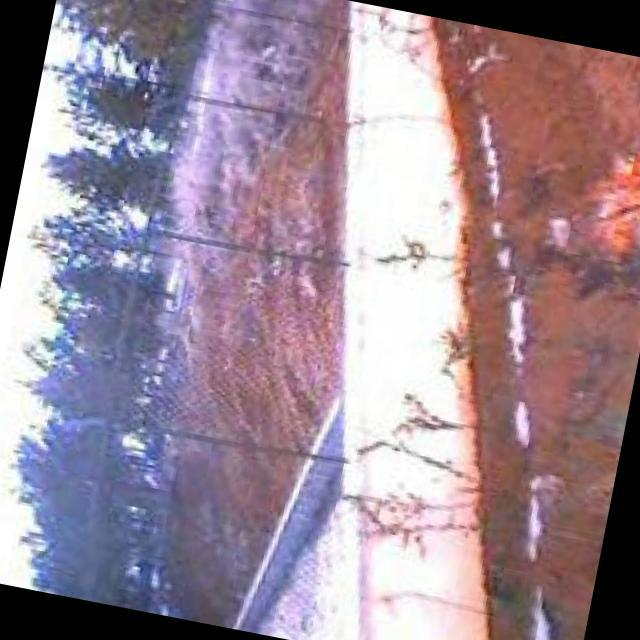Fire: (576, 123, 640, 268)
